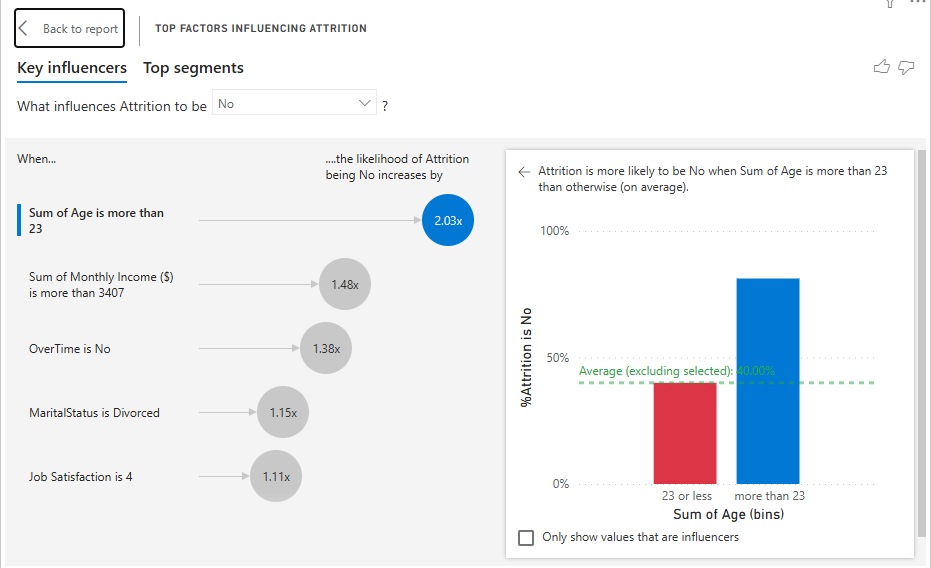

The dashboard page shown, as its layout file describes it:
{"tool":"powerbi","page":{"name":"Employee Details","canvas":[1280,720],"ordinal":1},"visuals":[{"type":"keyDriversVisual","title":"Top Factors Influencing Attrition","fields":{"Target":["Employee Data.Attrition"],"ExplainBy":["Employee Data.Department","Employee Data.OverTime","Employee Data.Job Satisfaction","Employee Data.Work Life Balance","Sum(Employee Data.Monthly Income ($))","Sum(Employee Data.Distance From Home (km))","Sum(Employee Data.Age)","Employee Data.Gender","Employee Data.MaritalStatus"]},"box":[9.6,72.9,1270.4,647.6],"z":0},{"type":"actionButton","box":[1054.7,0,225.3,39.3],"z":1000}]}

Visuals, with their boxes on the page's 1280x720 design canvas (x1, y1, x2, y2). These are canvas units, not pixel positions in the 931x568 screenshot, which may show the page scaled, cropped or inside an application window:
"Top Factors Influencing Attrition" keyDriversVisual: {"left": 10, "top": 73, "right": 1280, "bottom": 720}
actionButton: {"left": 1055, "top": 0, "right": 1280, "bottom": 39}
